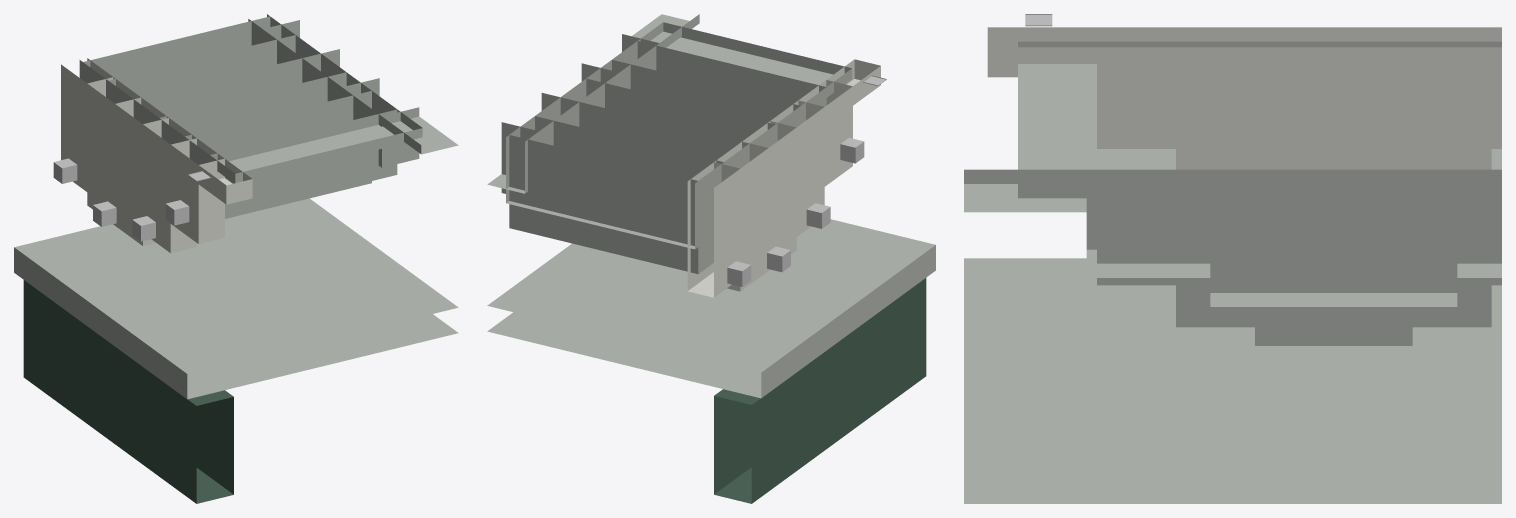
File: cell_4.obj
3 views of the same model, side by side, from view 1: azimuth 30°, elevation 25°; view 2: azimuth 150°, elevation 25°; view 3: azimuth 270°, elevation 25° (orthographic). The views are drawn at different scales.
Size of the model in its own units: 0.9062 by 0.9688 by 1.
